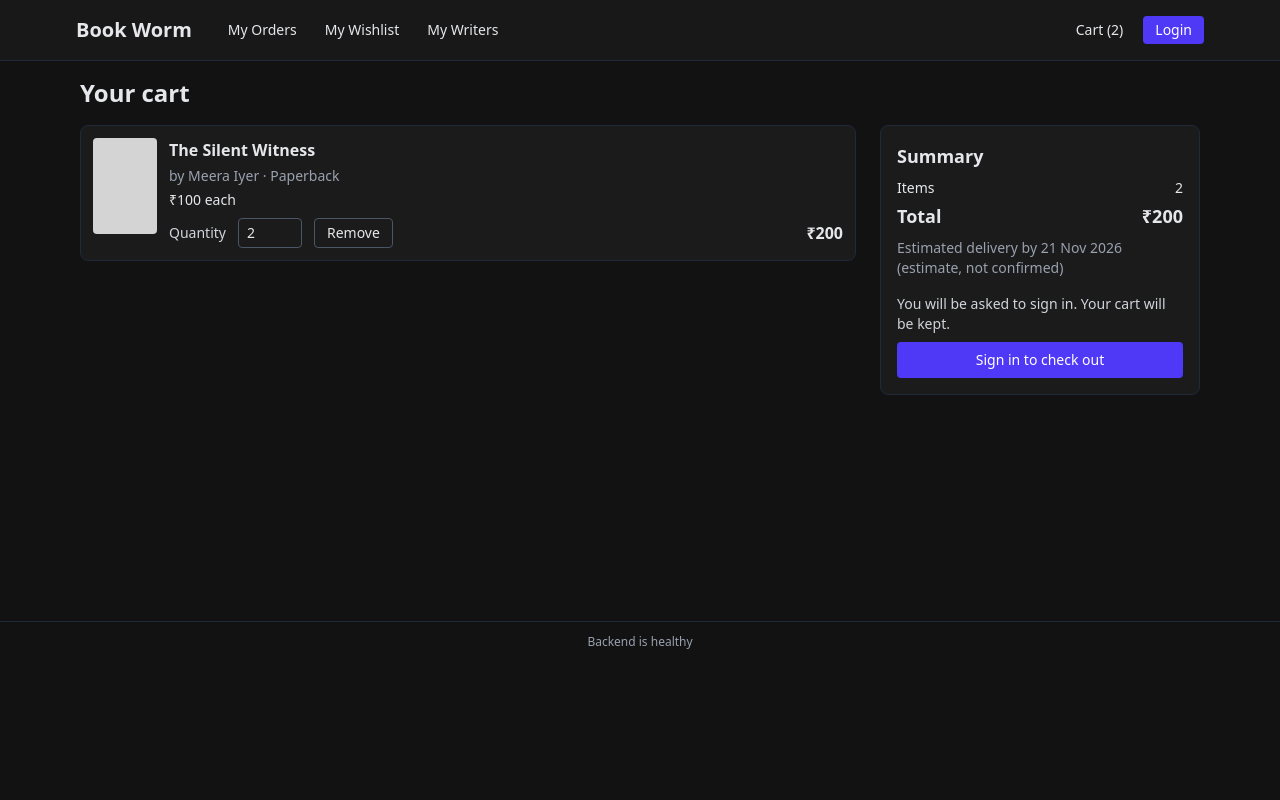
Test: Cart page › changes a quantity and removes an item using the server response
Replace the text in the number field labelled "Quantity" with "4" at (270, 233), box [238, 218, 302, 248]
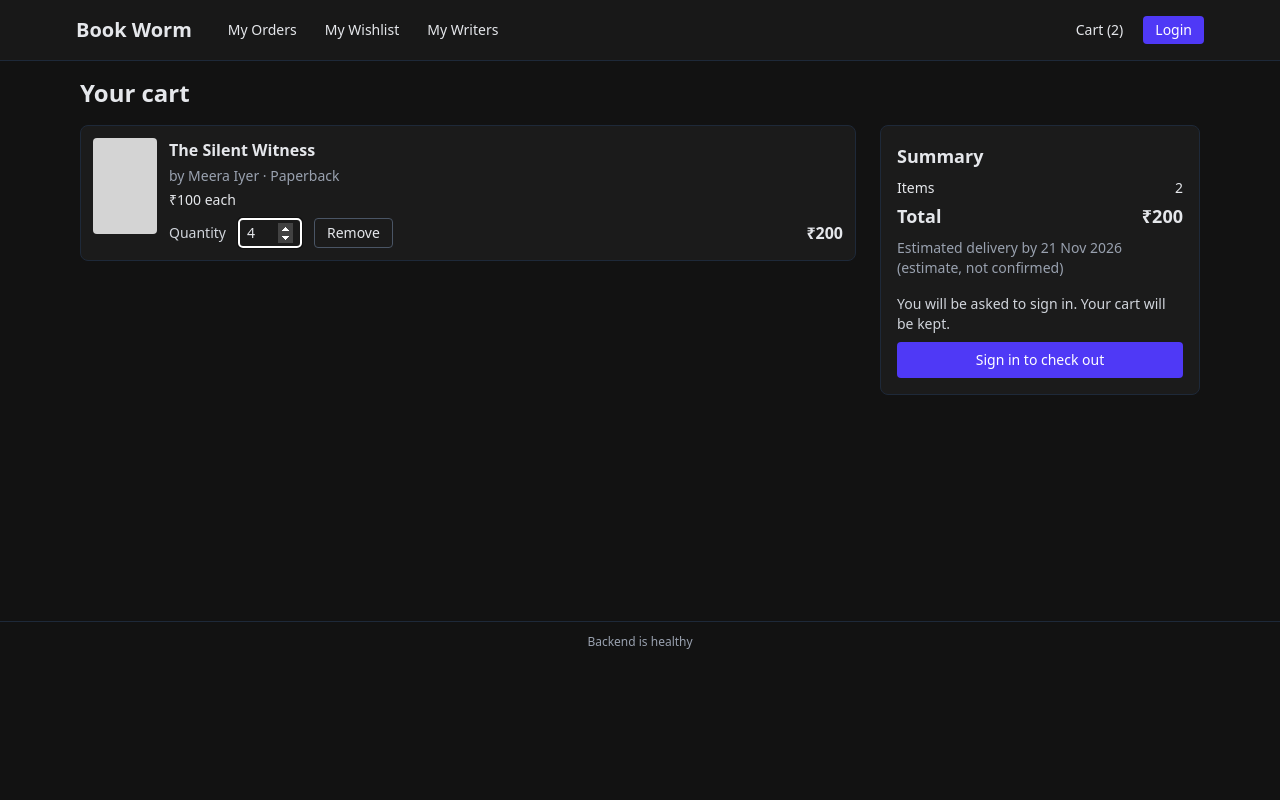
Press Tab
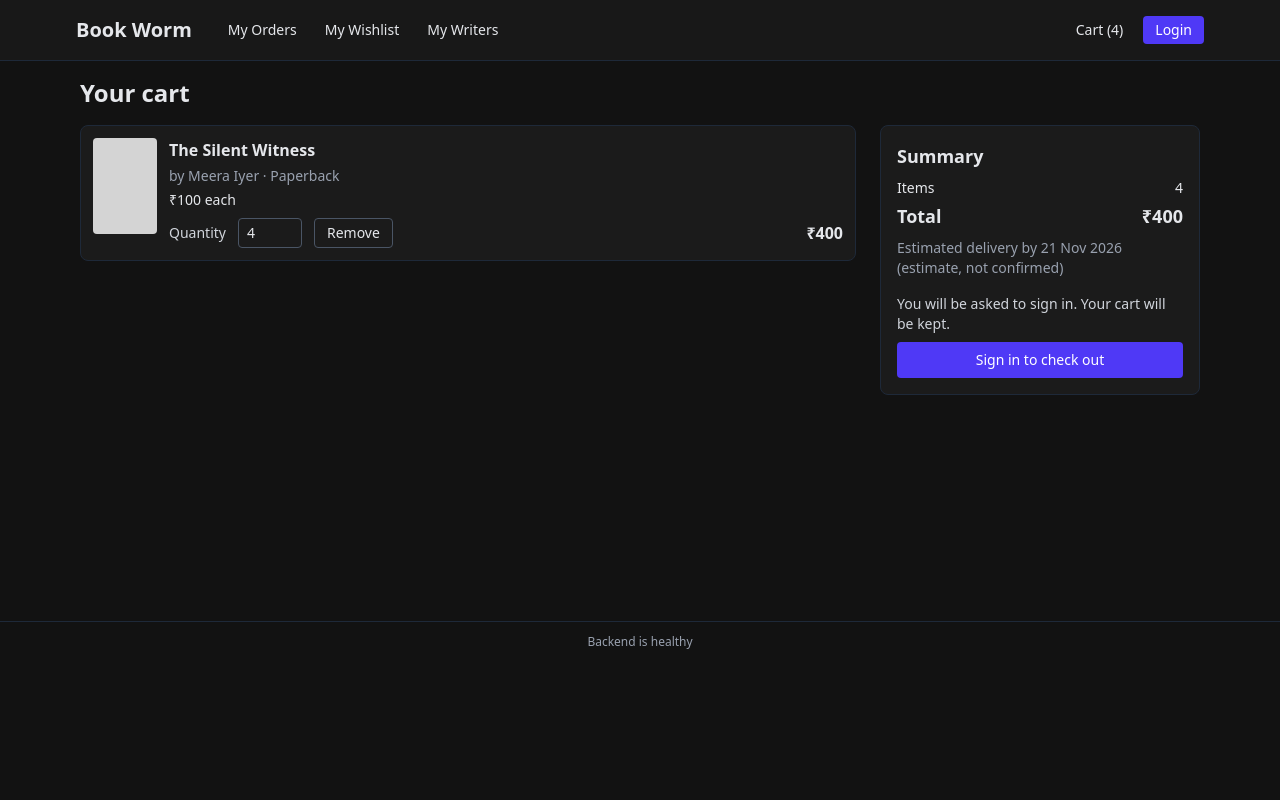
Click the button with aria-label "Remove The Silent Witness from cart".
click(353, 233)  # box [314, 218, 393, 248]
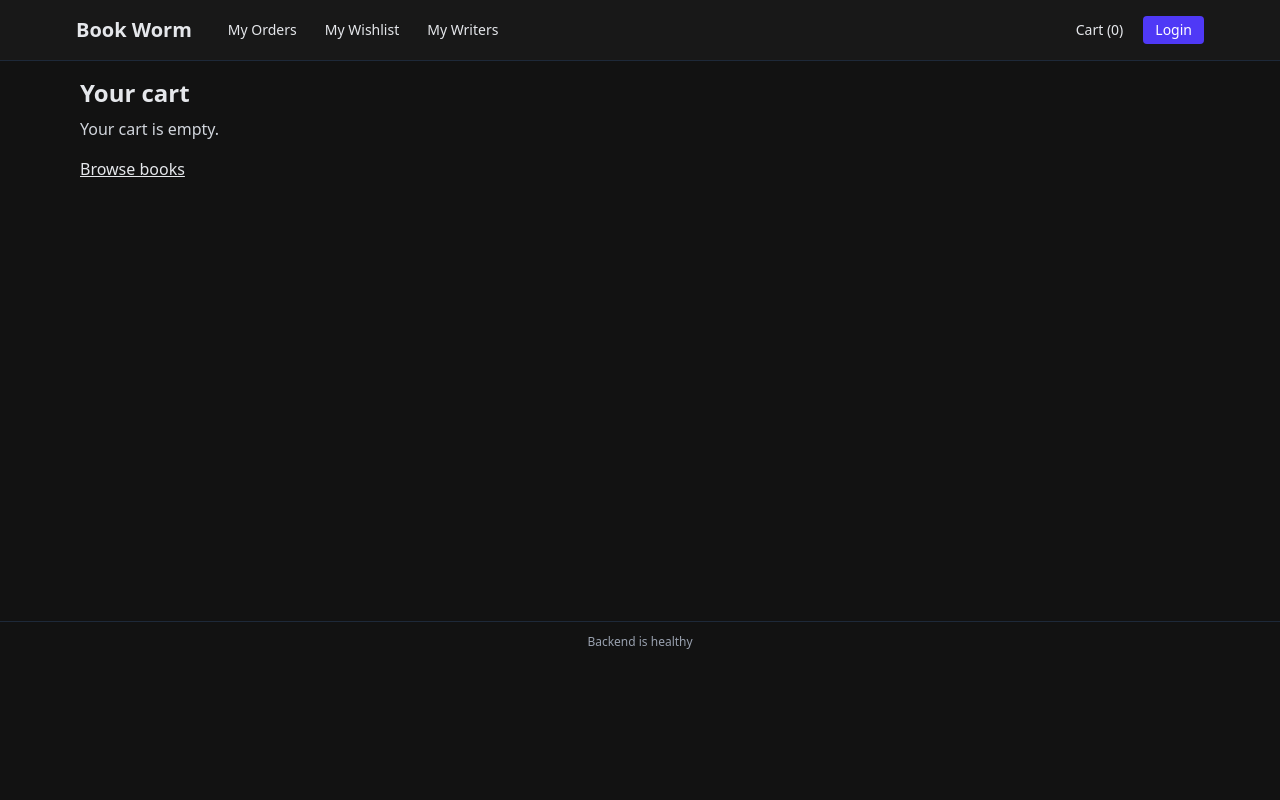
Now the text "Your cart is empty." is shown, box [80, 118, 219, 140]
